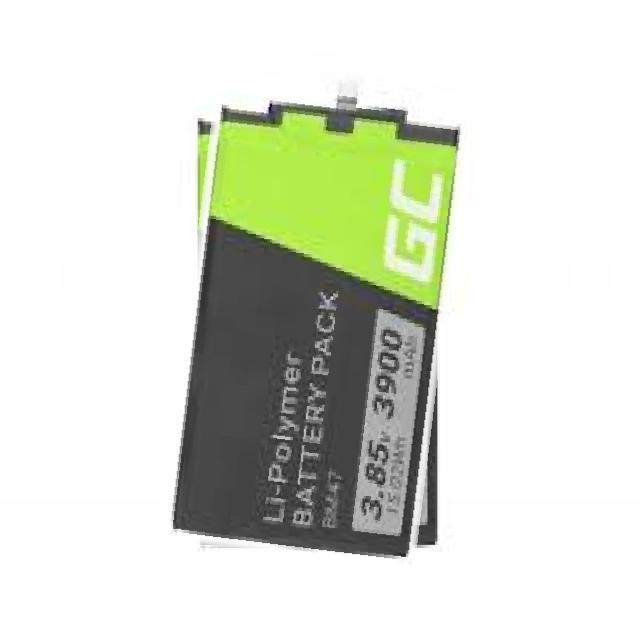Battery: (167, 90, 462, 559)
